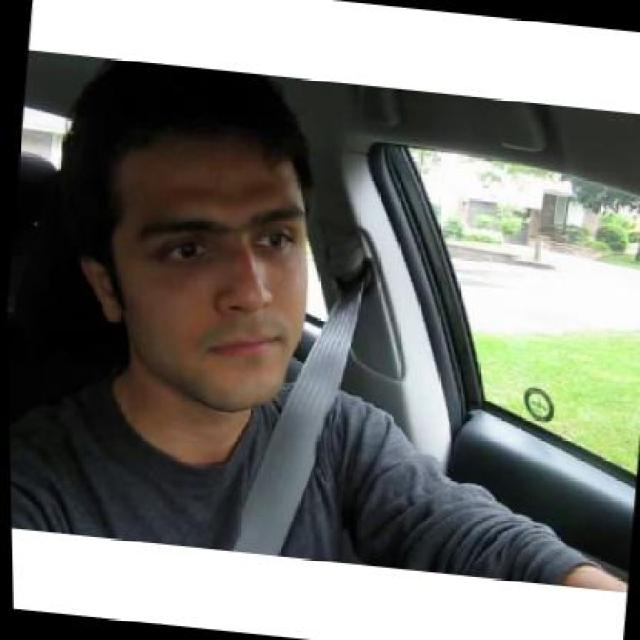attentif: (54, 55, 329, 418)
